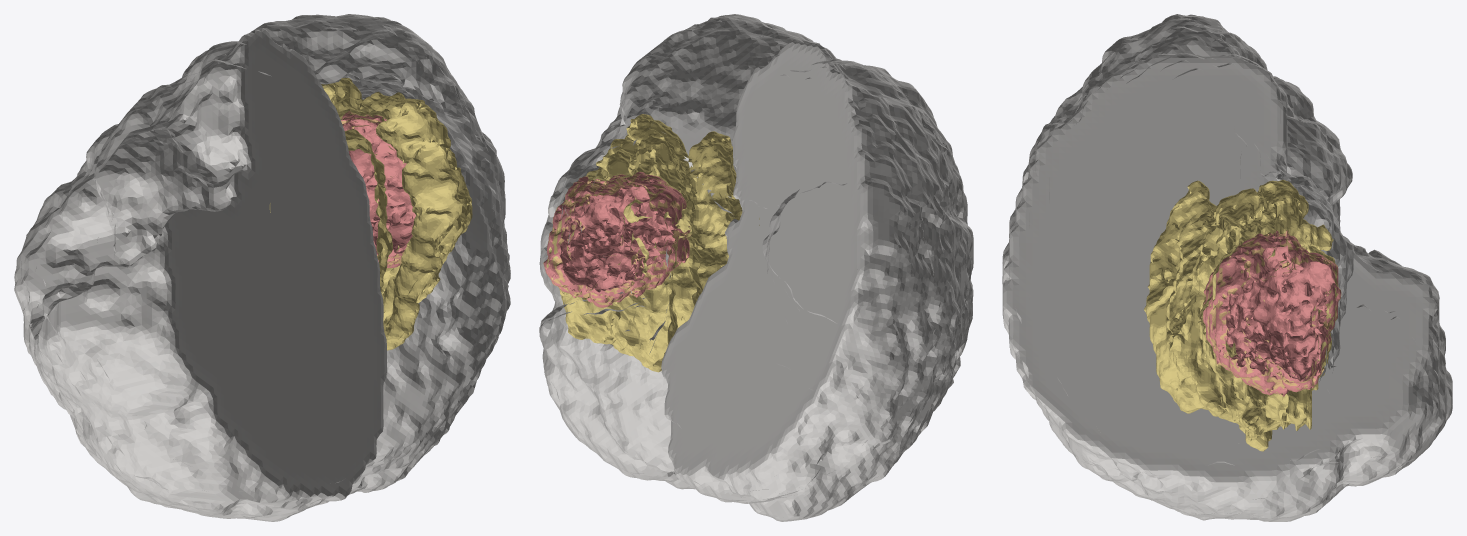
The picture shows the model from 3 angles, left to right: view 1: azimuth 30°, elevation 25°; view 2: azimuth 150°, elevation 25°; view 3: azimuth 270°, elevation 25°; orthographic projection. The views are drawn at different scales.
Parts seen in each view (by area): view 1: brain_left, brain_right, edema, enhancing; view 2: brain_left, brain_right, edema, enhancing, core; view 3: brain_right, edema, enhancing, brain_left, core.
Part boxes in pixels (left/top/right/bottom): brain_left: left=14, top=28, right=386, bottom=521; brain_right: left=251, top=14, right=510, bottom=494; edema: left=269, top=77, right=472, bottom=350; enhancing: left=341, top=111, right=415, bottom=267; brain_left: left=661, top=40, right=973, bottom=521; brain_right: left=539, top=14, right=820, bottom=489; edema: left=543, top=114, right=759, bottom=372; enhancing: left=543, top=172, right=690, bottom=307; core: left=544, top=171, right=692, bottom=307; brain_right: left=1002, top=53, right=1452, bottom=521; edema: left=1144, top=179, right=1340, bottom=451; enhancing: left=1203, top=231, right=1340, bottom=396; brain_left: left=1002, top=14, right=1445, bottom=359; core: left=1202, top=230, right=1341, bottom=396.
Size of the model in its own units: 142 by 156 by 136.
